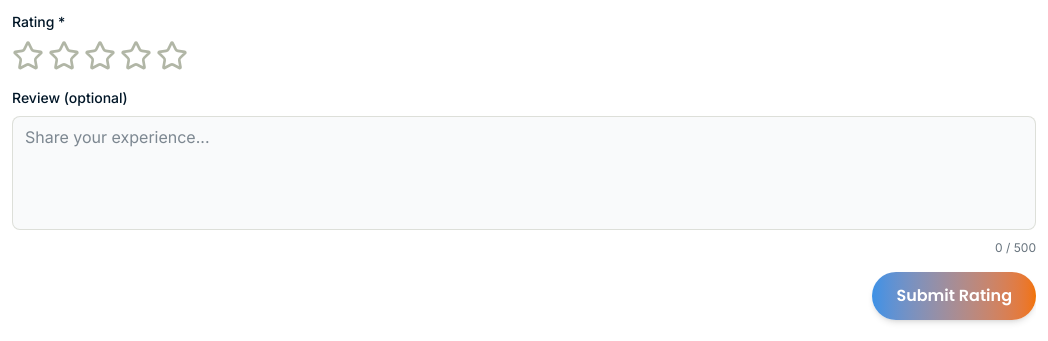
Scenario: RatingForm › allows selecting rating stars
The width and height of the screenshot is (1048, 341).
Click the button named "Rate 3 stars".
click(100, 56)  # box [84,40,116,72]
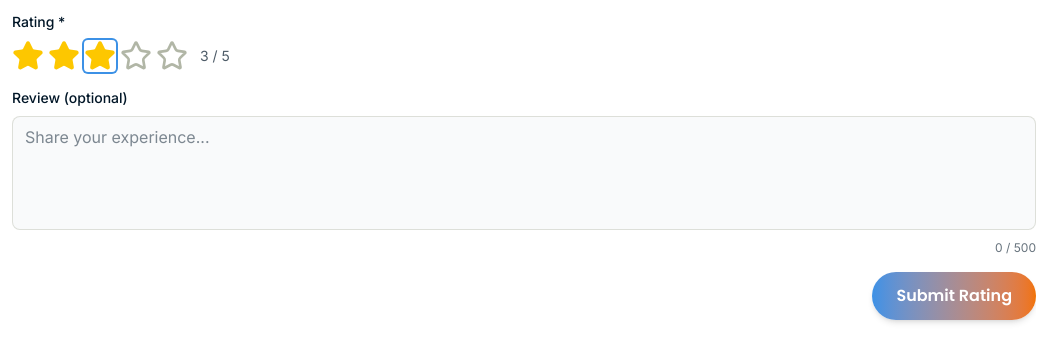
Expected: the text "3 / 5" is shown, [200,46,230,66]
